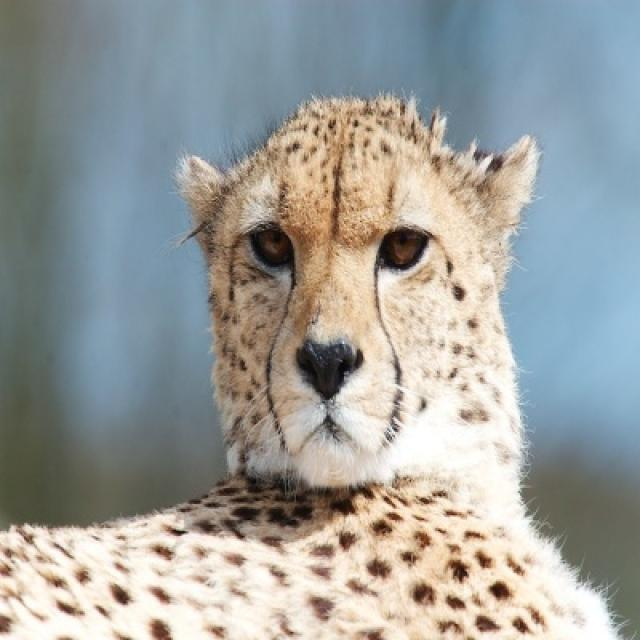Cheetah: (0, 99, 616, 638)
